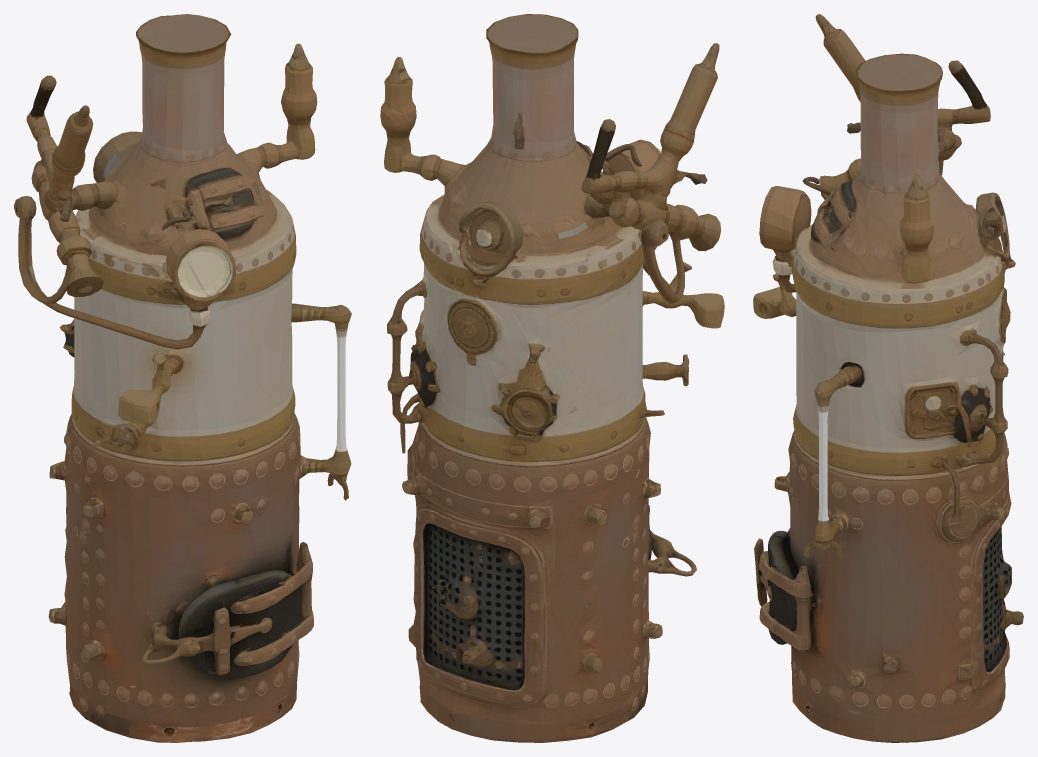
The model's file is caldera.glb.
3 renders of one model, left to right at view 1: azimuth 30°, elevation 25°; view 2: azimuth 150°, elevation 25°; view 3: azimuth 270°, elevation 25°, orthographic. The views are drawn at different scales.
Visible parts, largest first — view 1: tripo_node_23566306-592c-434a-9a57-f17f02f89b45; view 2: tripo_node_23566306-592c-434a-9a57-f17f02f89b45; view 3: tripo_node_23566306-592c-434a-9a57-f17f02f89b45.
Part boxes in pixels (left/top/right/bottom): tripo_node_23566306-592c-434a-9a57-f17f02f89b45: left=14, top=14, right=351, bottom=742; tripo_node_23566306-592c-434a-9a57-f17f02f89b45: left=380, top=14, right=724, bottom=742; tripo_node_23566306-592c-434a-9a57-f17f02f89b45: left=753, top=14, right=1023, bottom=742.
Size of the model in its own units: 0.4517 by 0.9797 by 0.3837.
1 material, 1 textured.
